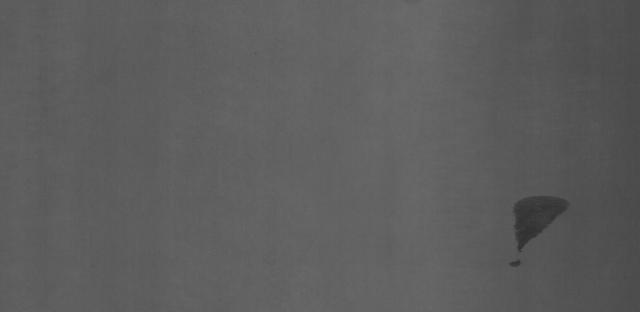oil_spot: (501, 183, 574, 272)
